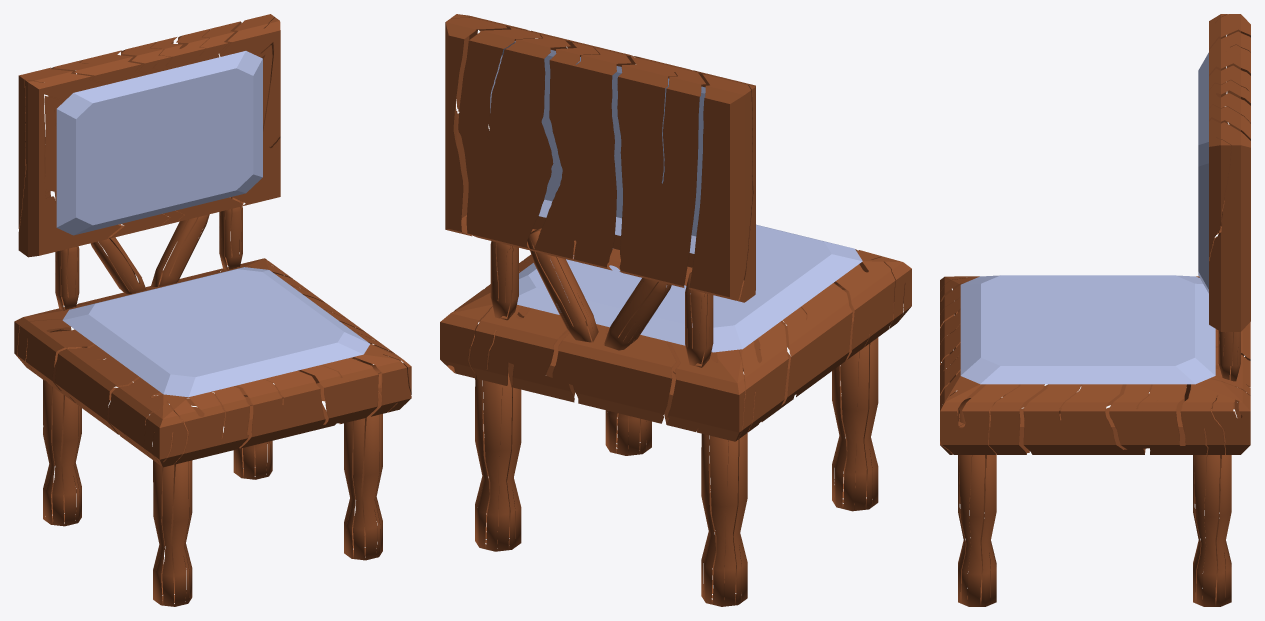
Rendered from Cadeira.fbx.
3 views of the same model, side by side, from view 1: azimuth 30°, elevation 25°; view 2: azimuth 150°, elevation 25°; view 3: azimuth 270°, elevation 25° (orthographic). The views are drawn at different scales.
Parts seen in each view (by area): view 1: Cube.025, Cube.026; view 2: Cube.025, Cube.026; view 3: Cube.025, Cube.026.
Boxes of the visible parts, box(x1,y1,x2,y2) form: Cube.025: box(14, 14, 411, 606); Cube.026: box(56, 51, 369, 397); Cube.025: box(440, 14, 911, 606); Cube.026: box(490, 41, 862, 352); Cube.025: box(940, 14, 1250, 606); Cube.026: box(960, 52, 1215, 384).
Size of the model in its own units: 110 by 183 by 110.
